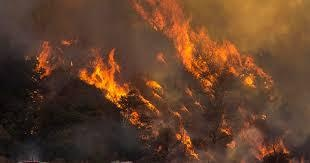fire: (125, 1, 275, 87), (78, 46, 161, 130), (214, 107, 295, 160), (172, 107, 197, 158), (31, 38, 55, 79)
